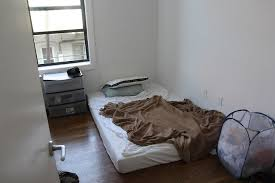Bed: (86, 74, 232, 174)
